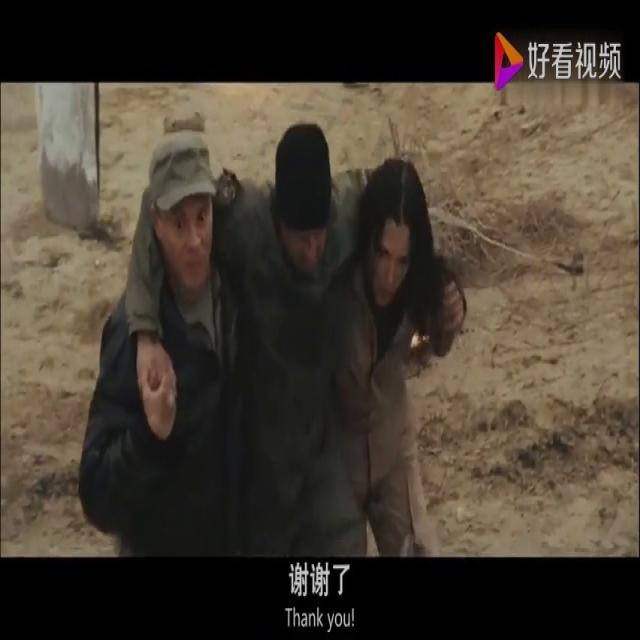non-fight: (210, 118, 378, 556), (78, 116, 238, 555), (341, 148, 479, 558)
